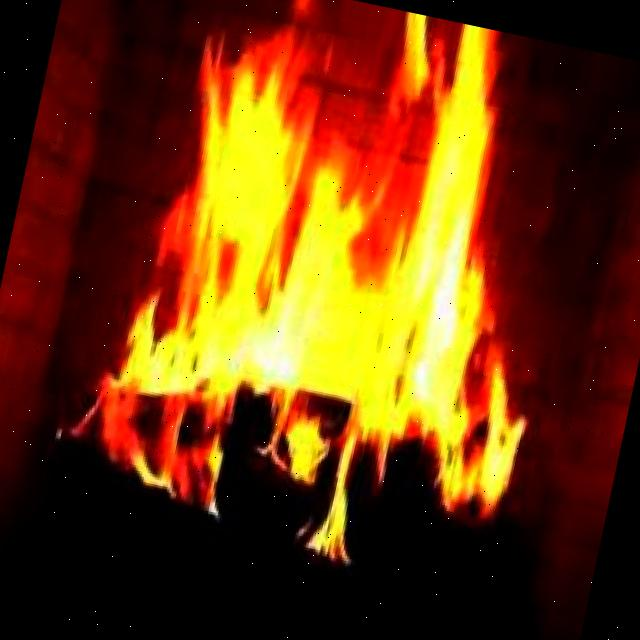fire: (112, 52, 578, 521)
